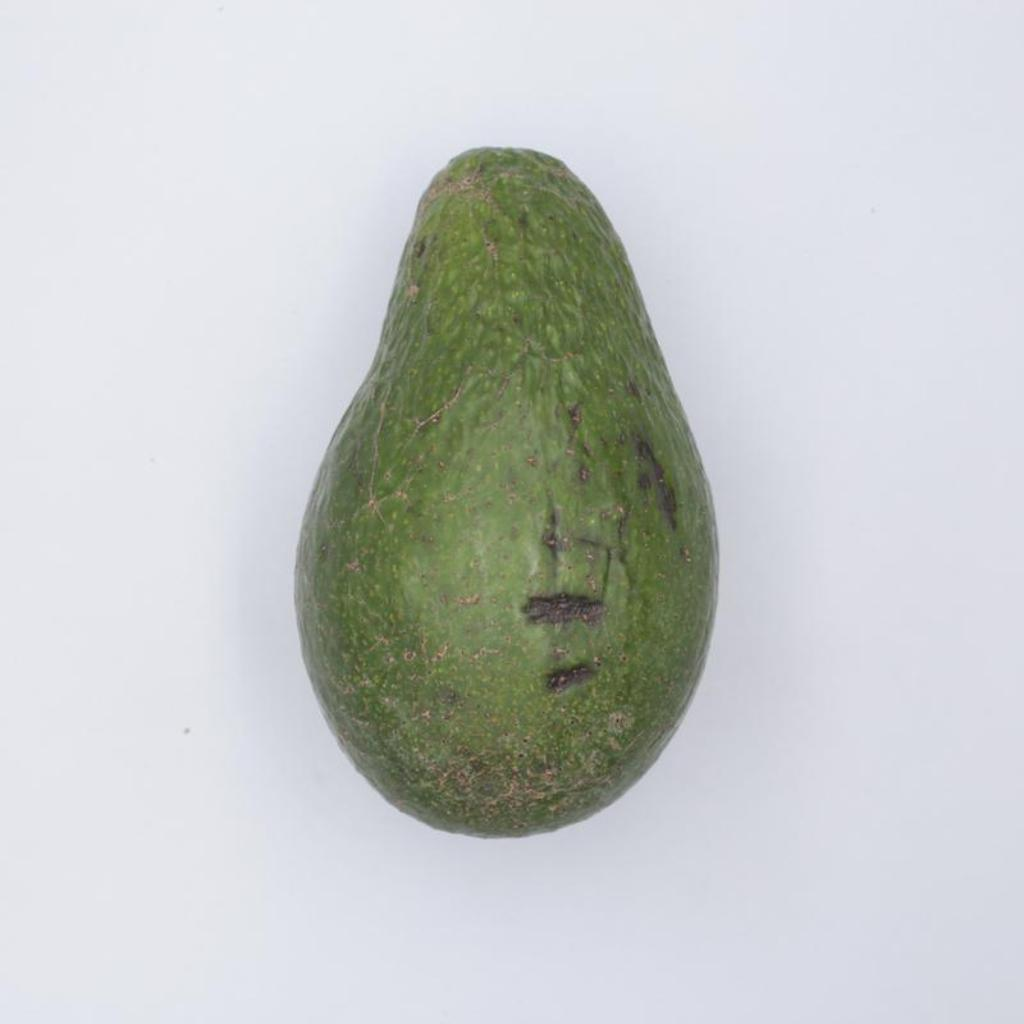scab: (296, 148, 717, 836)
